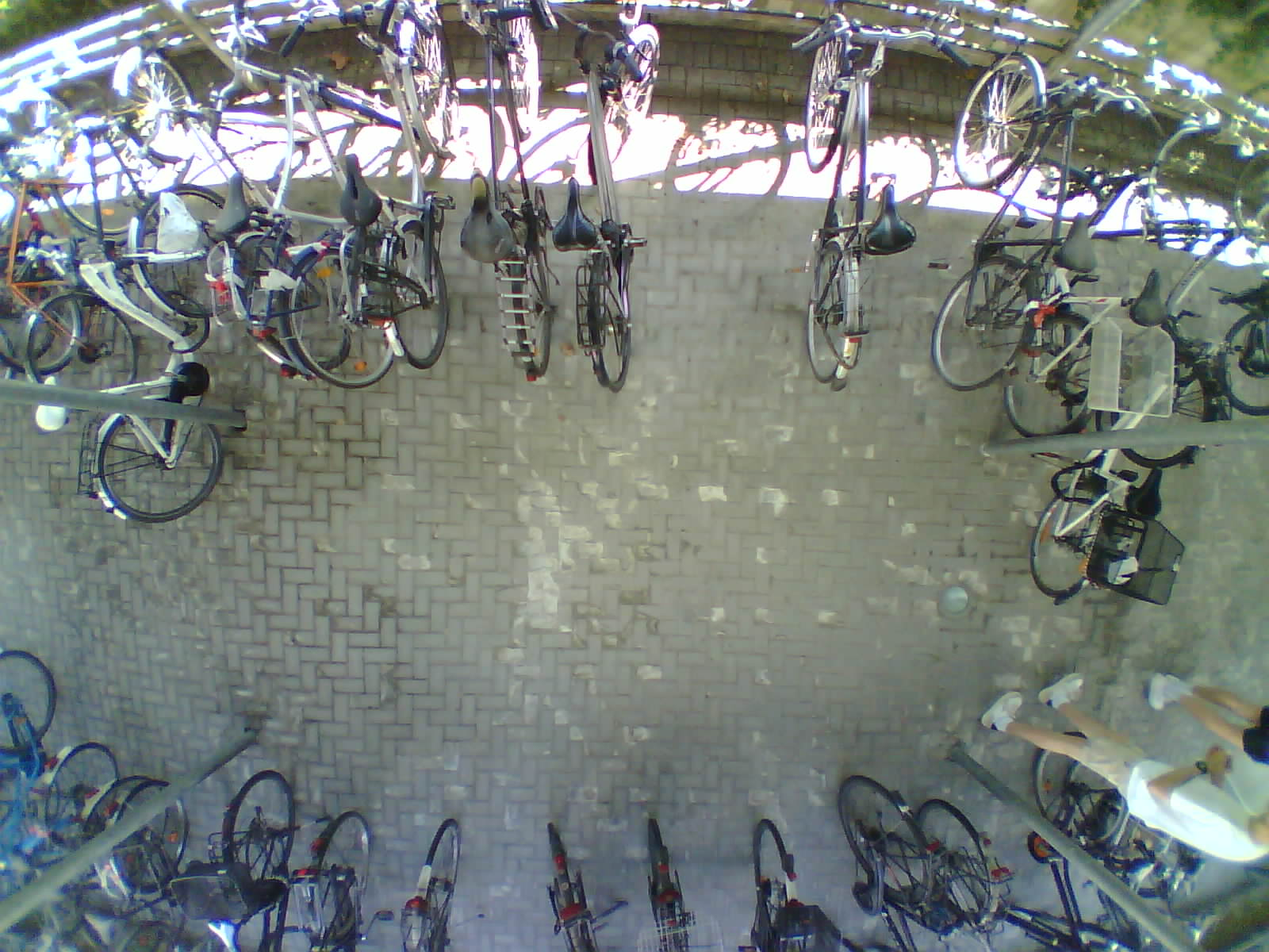bicylce: (93, 181, 243, 528), (258, 68, 419, 385), (989, 152, 1158, 441), (1025, 356, 1214, 592), (175, 108, 347, 366), (789, 16, 892, 395), (939, 43, 1046, 402), (1091, 221, 1244, 467), (362, 0, 462, 374), (570, 20, 671, 386), (476, 0, 564, 391), (25, 118, 133, 393), (1037, 731, 1156, 952)
saddle: (452, 172, 520, 262), (858, 177, 925, 263), (546, 170, 606, 257), (331, 148, 384, 234), (148, 189, 210, 254), (1054, 206, 1102, 282), (1122, 258, 1173, 328), (211, 167, 260, 238), (1122, 459, 1170, 528), (1234, 316, 1269, 381), (203, 909, 249, 952), (32, 375, 69, 427), (78, 910, 121, 944), (1125, 857, 1158, 897), (1184, 914, 1218, 946)
